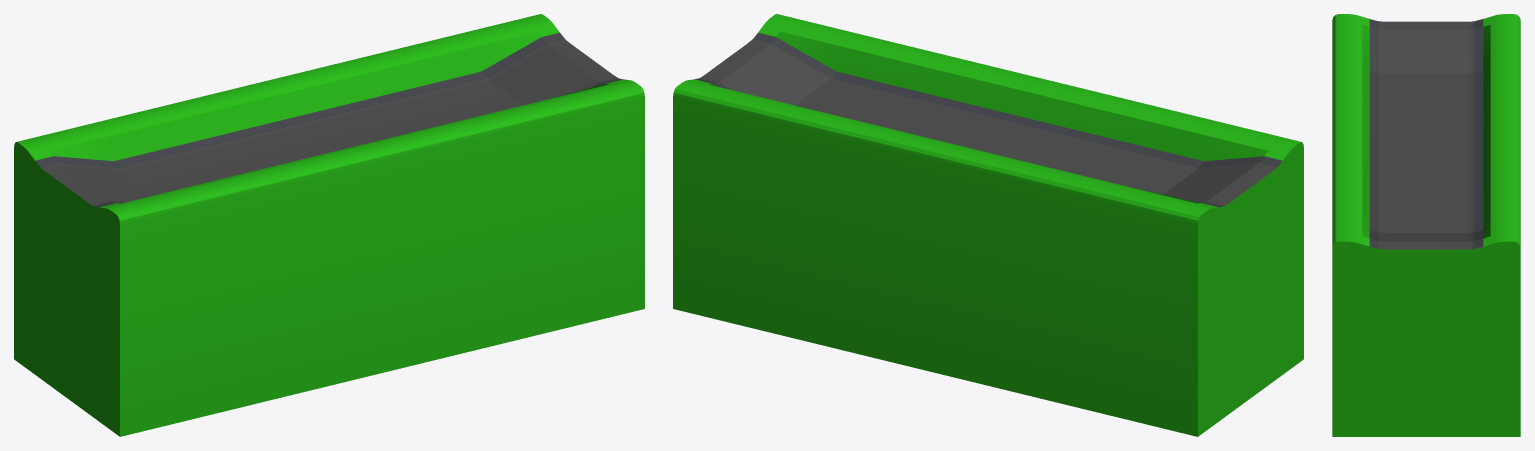
The model's file is Дорожка для воды.fbx.
3 renders of one model, left to right at view 1: azimuth 30°, elevation 25°; view 2: azimuth 150°, elevation 25°; view 3: azimuth 270°, elevation 25°, orthographic. The views are drawn at different scales.
Parts seen in each view (by area): view 1: Cube.002; view 2: Cube.002; view 3: Cube.002.
Part boxes in pixels (box(x1,y1,x2,y2)): Cube.002: box(14, 14, 644, 436); Cube.002: box(673, 14, 1303, 436); Cube.002: box(1332, 14, 1520, 436).
Bounding box in the file's own units: 2000 × 800 × 700.
